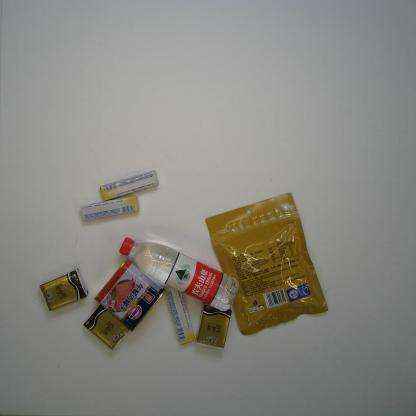Candy: (164, 286, 196, 346), (100, 170, 160, 202), (80, 196, 140, 221)
Canned Food: (93, 256, 166, 332)
Dried Fruit: (204, 192, 330, 338)
Drink: (118, 237, 240, 312)
Tissue: (82, 304, 130, 350), (39, 268, 89, 312), (194, 304, 232, 352)
